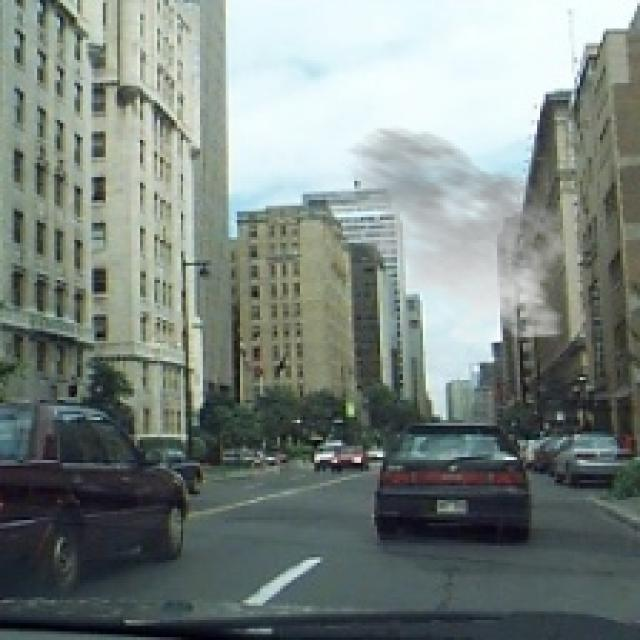Smoke: (326, 126, 578, 346)
